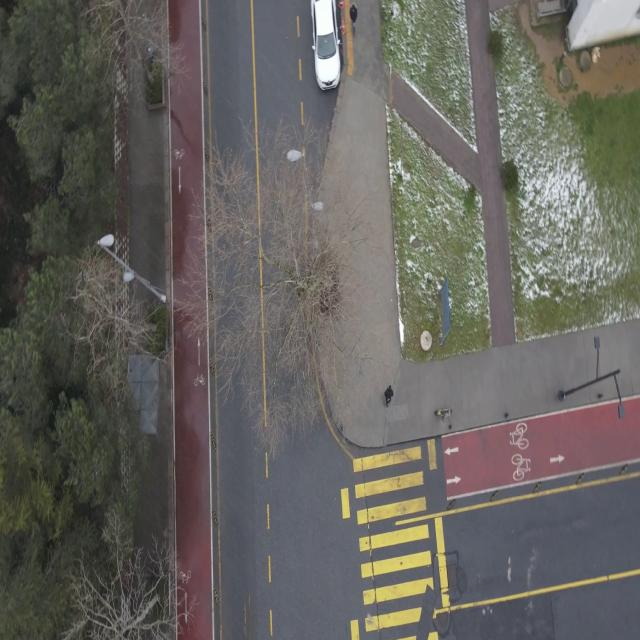p3rson: (349, 2, 357, 34), (384, 384, 393, 408)
